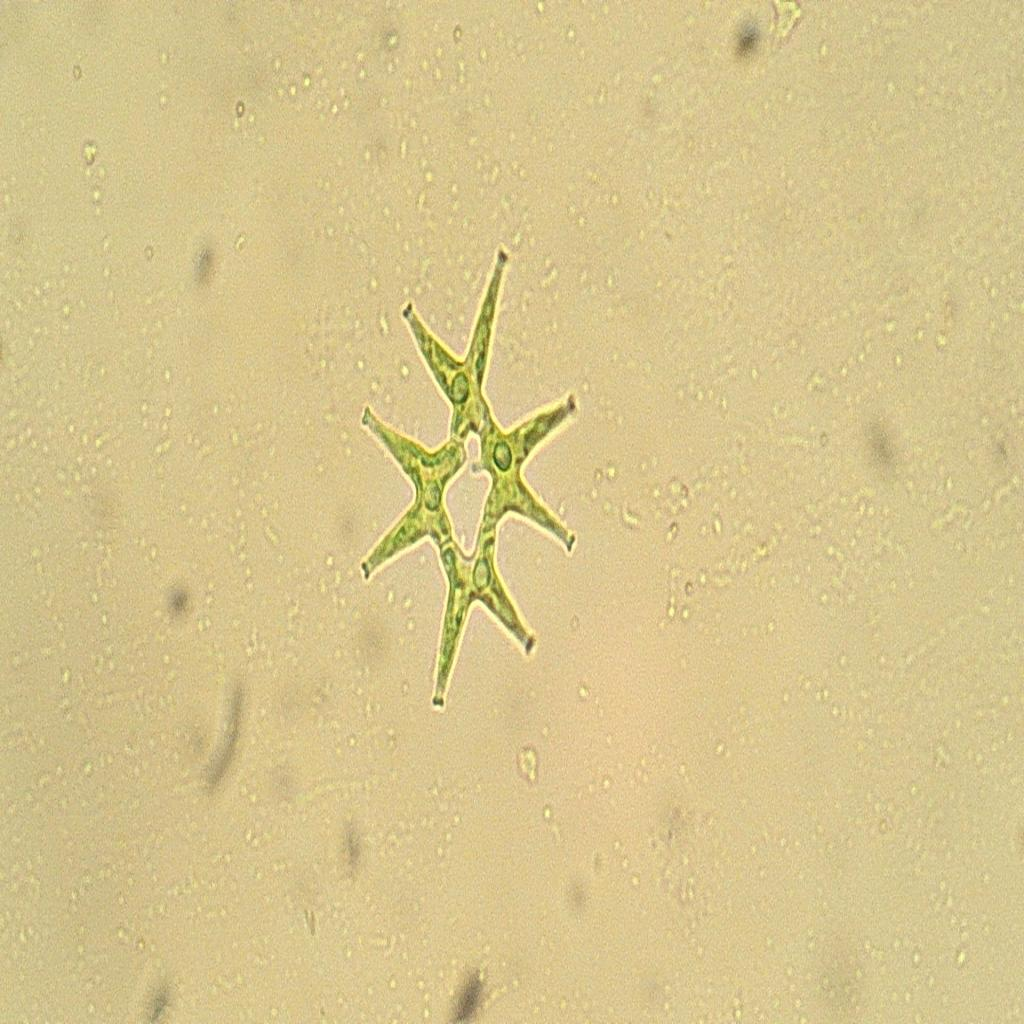Pediastrum_CF: (338, 233, 596, 724)
